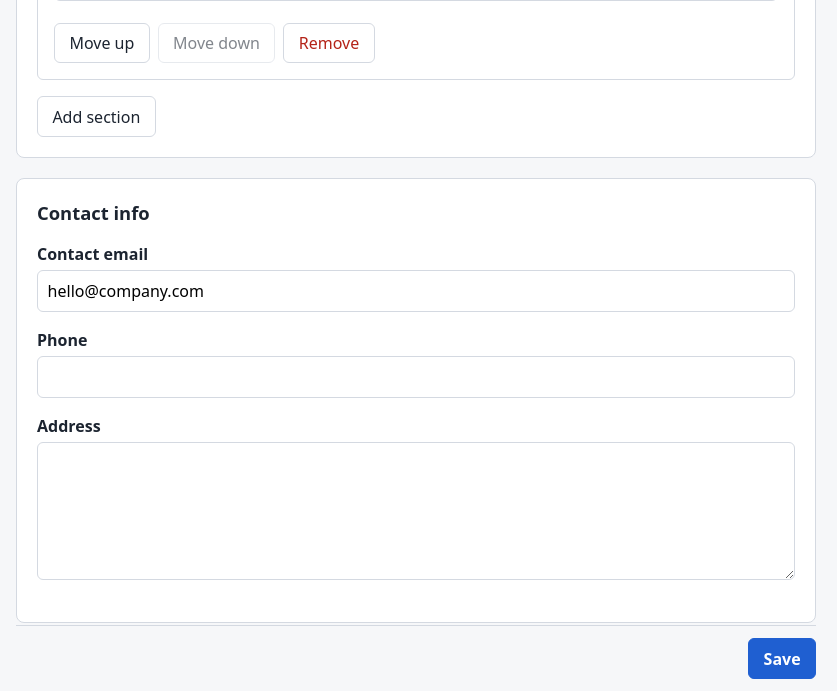
Scenario: Validation › invalid contact email → error and nothing is sent
(page scrolled)
Replace the text in the field labelled "Contact email" with "not-an-email" at (416, 291), box [37, 270, 795, 312]
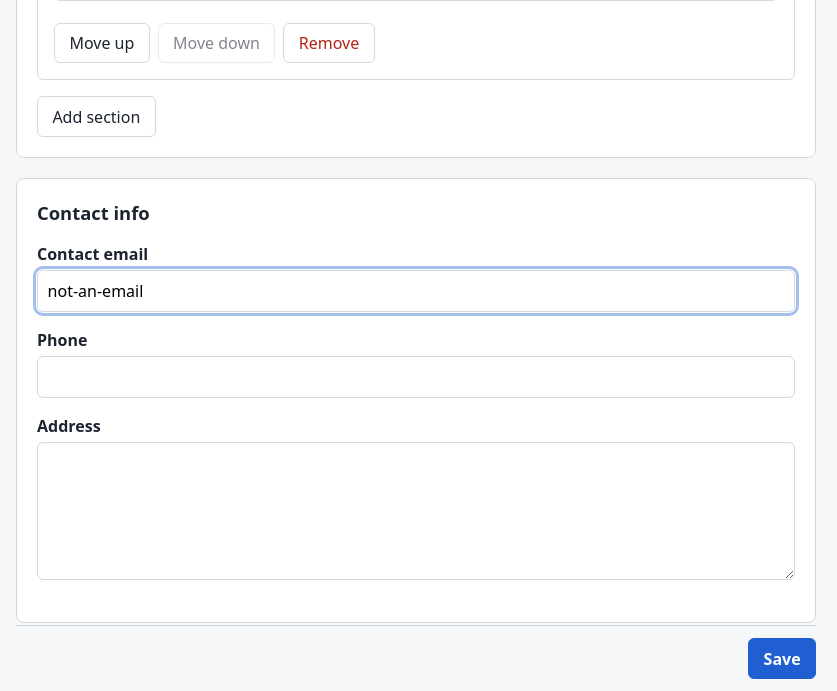
Click the button "Save" at (782, 659), box [748, 639, 816, 679]
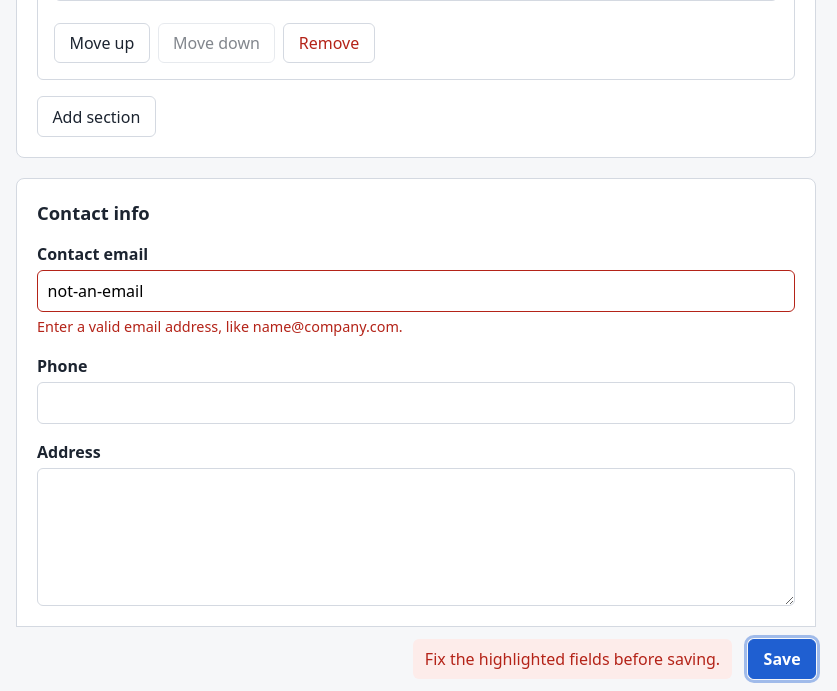
Result: the text "Enter a valid email address, like name@company.com." is shown at [37, 317, 403, 336]
